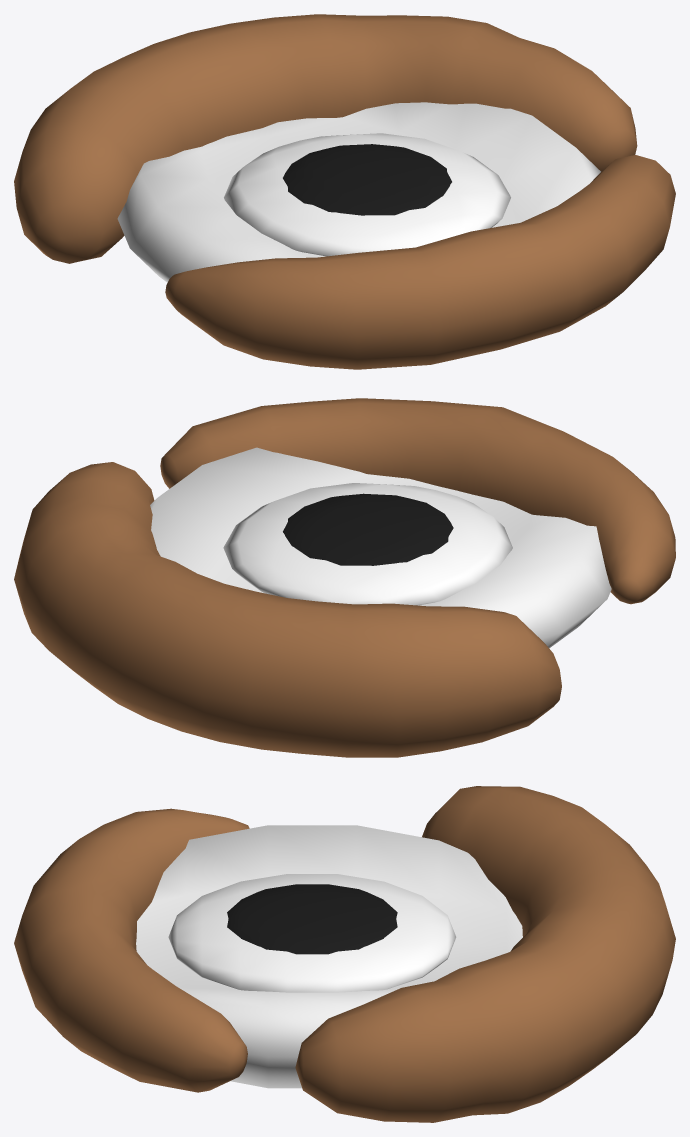
Rendered from Cyclorb.fbx.
3 views of the same model, one above another, from view 1: azimuth 30°, elevation 25°; view 2: azimuth 150°, elevation 25°; view 3: azimuth 270°, elevation 25° (orthographic).
Visible parts, largest first — view 1: Cyclorb - takumoaki (Skorados); view 2: Cyclorb - takumoaki (Skorados); view 3: Cyclorb - takumoaki (Skorados).
Boxes of the visible parts, x1,y1,x2,y2 form: Cyclorb - takumoaki (Skorados): [14, 14, 675, 369]; Cyclorb - takumoaki (Skorados): [14, 398, 675, 757]; Cyclorb - takumoaki (Skorados): [14, 786, 675, 1122].
Size of the model in its own units: 38.94 by 12.46 by 40.82.
